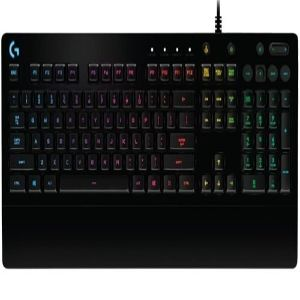keyboard: (1, 30, 299, 272)
